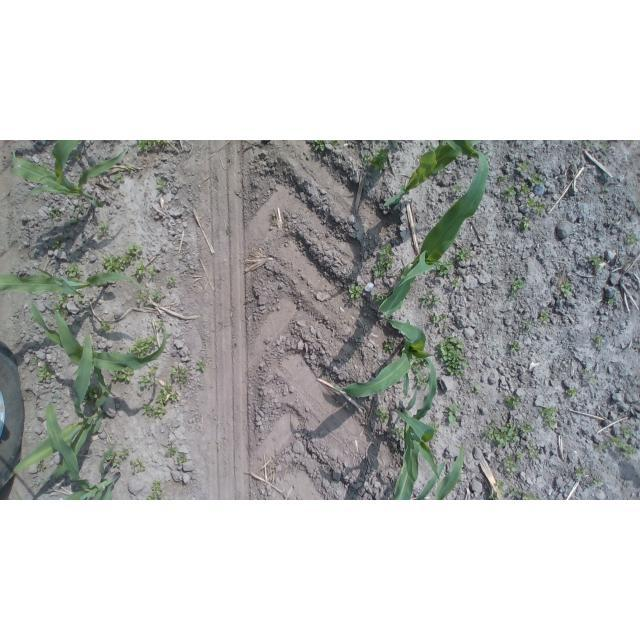Maize: (380, 151, 490, 319), (7, 331, 113, 482), (24, 290, 168, 374), (331, 318, 447, 409), (40, 400, 127, 501), (9, 140, 132, 204), (380, 141, 478, 209), (3, 257, 148, 295), (393, 389, 445, 483), (389, 442, 472, 498)
Weeds: (437, 334, 470, 379), (599, 430, 637, 459), (370, 242, 396, 279), (497, 480, 542, 501), (363, 147, 394, 172), (486, 421, 515, 447), (126, 333, 158, 356), (30, 358, 54, 387), (100, 252, 130, 274), (410, 358, 432, 387), (170, 363, 193, 390), (139, 363, 161, 391), (417, 290, 443, 311), (425, 311, 454, 329), (588, 253, 610, 276), (508, 276, 528, 301), (541, 407, 561, 432), (524, 195, 550, 214), (137, 140, 172, 154), (109, 367, 136, 385), (85, 380, 105, 404), (158, 382, 177, 407), (124, 243, 146, 262), (142, 406, 169, 421), (54, 292, 70, 317), (147, 478, 165, 500), (529, 169, 551, 187), (579, 140, 612, 152), (500, 180, 516, 204), (64, 262, 83, 282), (518, 212, 536, 233), (347, 281, 366, 300), (446, 401, 461, 425), (95, 221, 116, 238), (503, 453, 518, 476), (504, 392, 523, 410), (151, 174, 170, 191), (515, 159, 532, 178), (581, 369, 598, 387), (517, 418, 536, 434), (130, 460, 147, 477), (454, 246, 472, 262), (537, 307, 553, 325), (437, 261, 452, 280), (135, 286, 149, 306), (104, 450, 121, 466), (97, 318, 114, 334), (559, 283, 575, 300), (195, 357, 210, 375), (521, 315, 536, 333), (507, 337, 522, 355), (573, 465, 588, 483), (521, 182, 535, 201), (390, 423, 404, 442), (525, 440, 538, 460), (382, 338, 398, 354), (622, 229, 636, 247), (308, 141, 330, 152), (114, 172, 129, 188), (163, 443, 179, 458), (164, 273, 180, 288), (451, 182, 465, 199), (69, 206, 81, 225), (147, 287, 161, 303), (52, 239, 68, 253), (372, 292, 388, 306), (373, 406, 387, 422), (449, 275, 461, 292), (136, 262, 147, 280), (593, 332, 604, 350), (468, 384, 482, 398), (120, 445, 132, 459), (605, 296, 617, 309), (173, 454, 187, 465), (149, 265, 159, 278), (76, 293, 87, 304), (567, 389, 578, 400), (49, 208, 64, 216), (590, 476, 602, 486), (516, 450, 525, 462)
